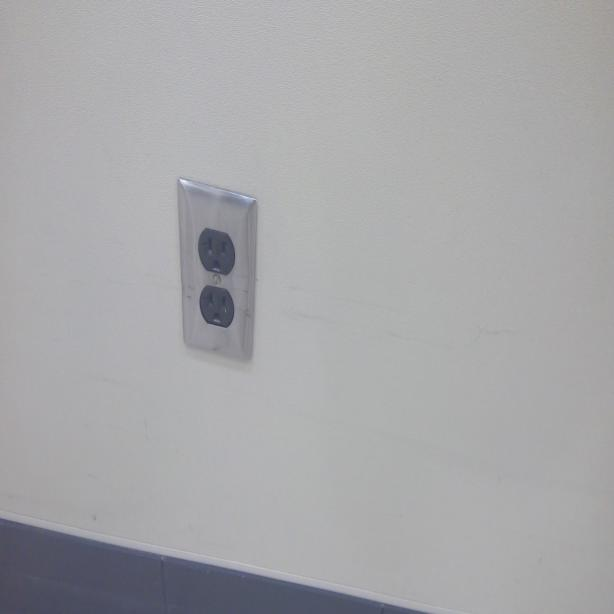typeb: (198, 226, 234, 278), (200, 285, 234, 329)
